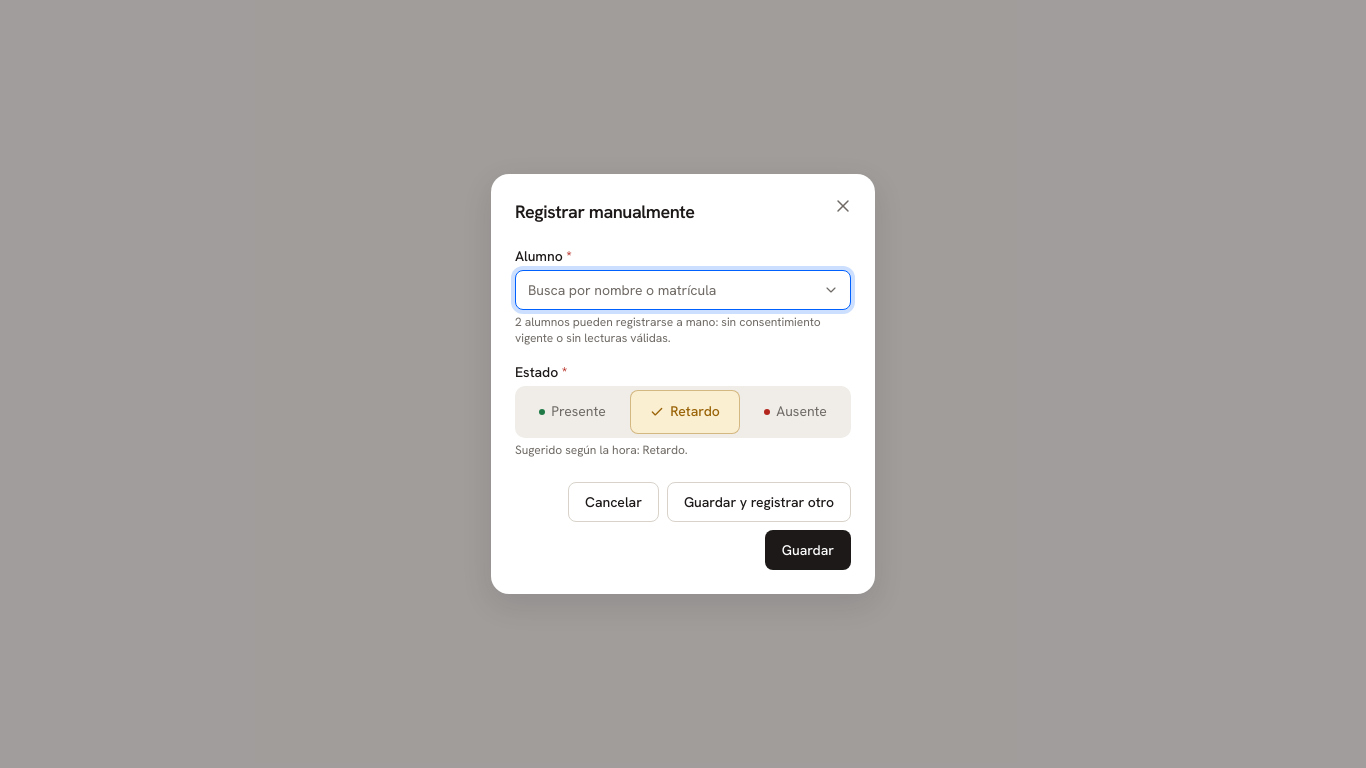
Test: RegistroManualDialog › «Guardar y registrar otro» deja el diálogo abierto, limpia la elección y no vuelve a ofrecer al registrado
The image size is (1366, 768).
Click the dropdown labelled "Alumno *".
click(683, 290)  # box [515,270,851,310]
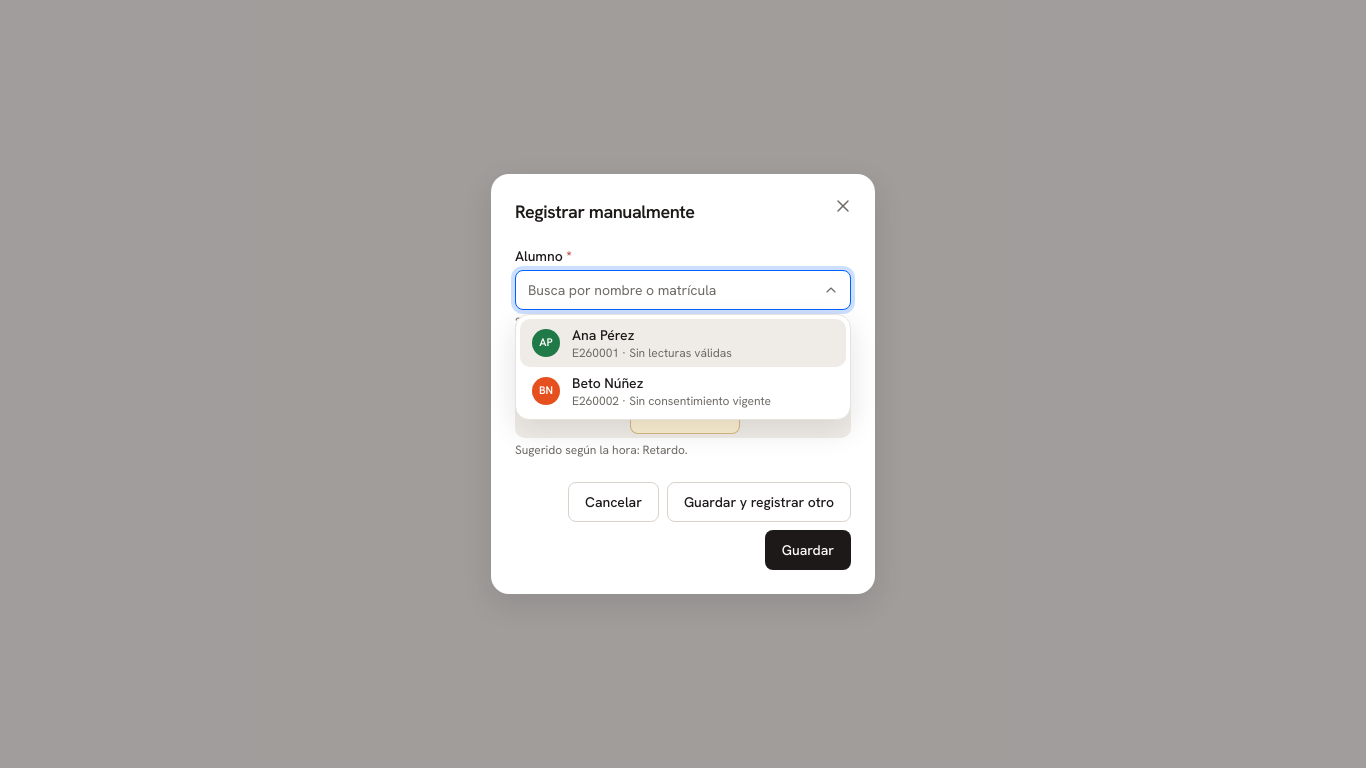
Click the option "AP Ana Pérez E260001 · Sin lecturas válidas".
click(683, 343)  # box [520,319,846,367]
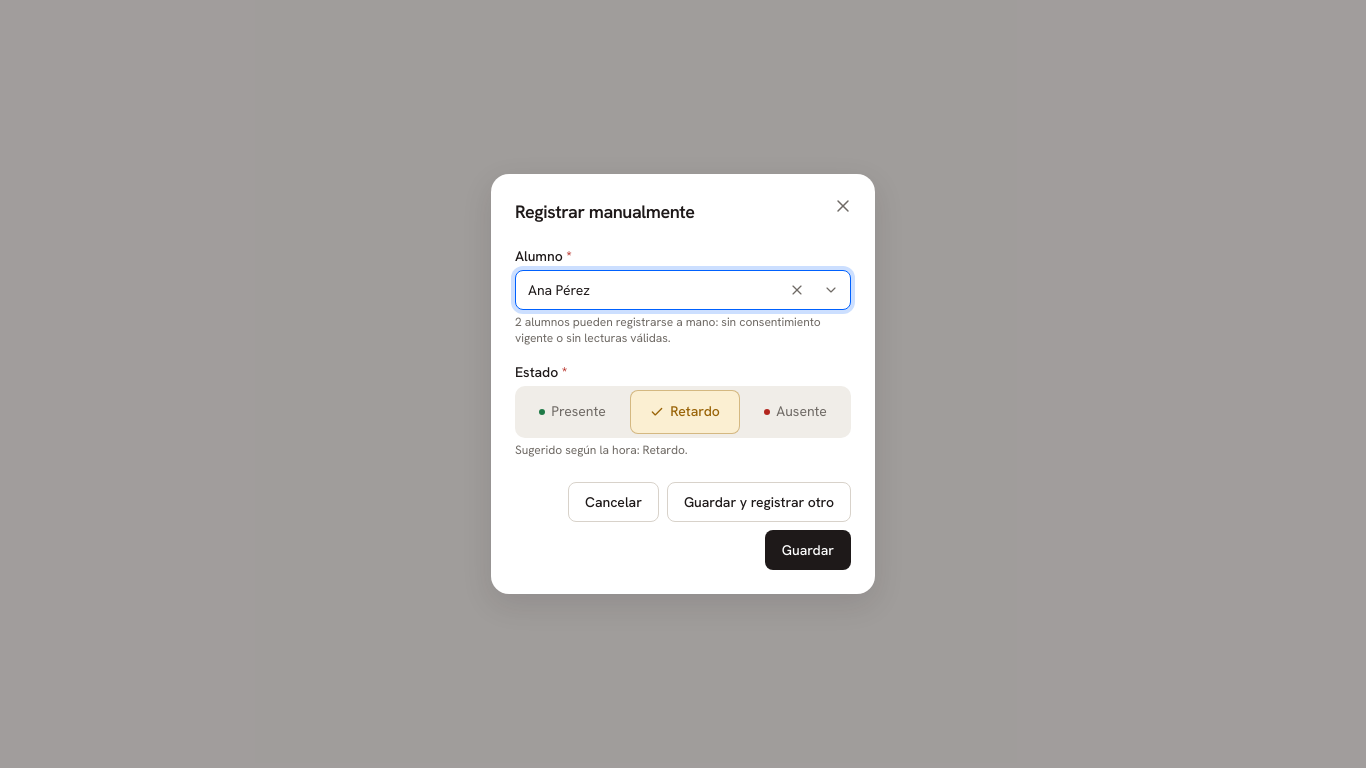
Click the radio button labelled "Presente".
click(572, 412)  # box [519,390,626,434]
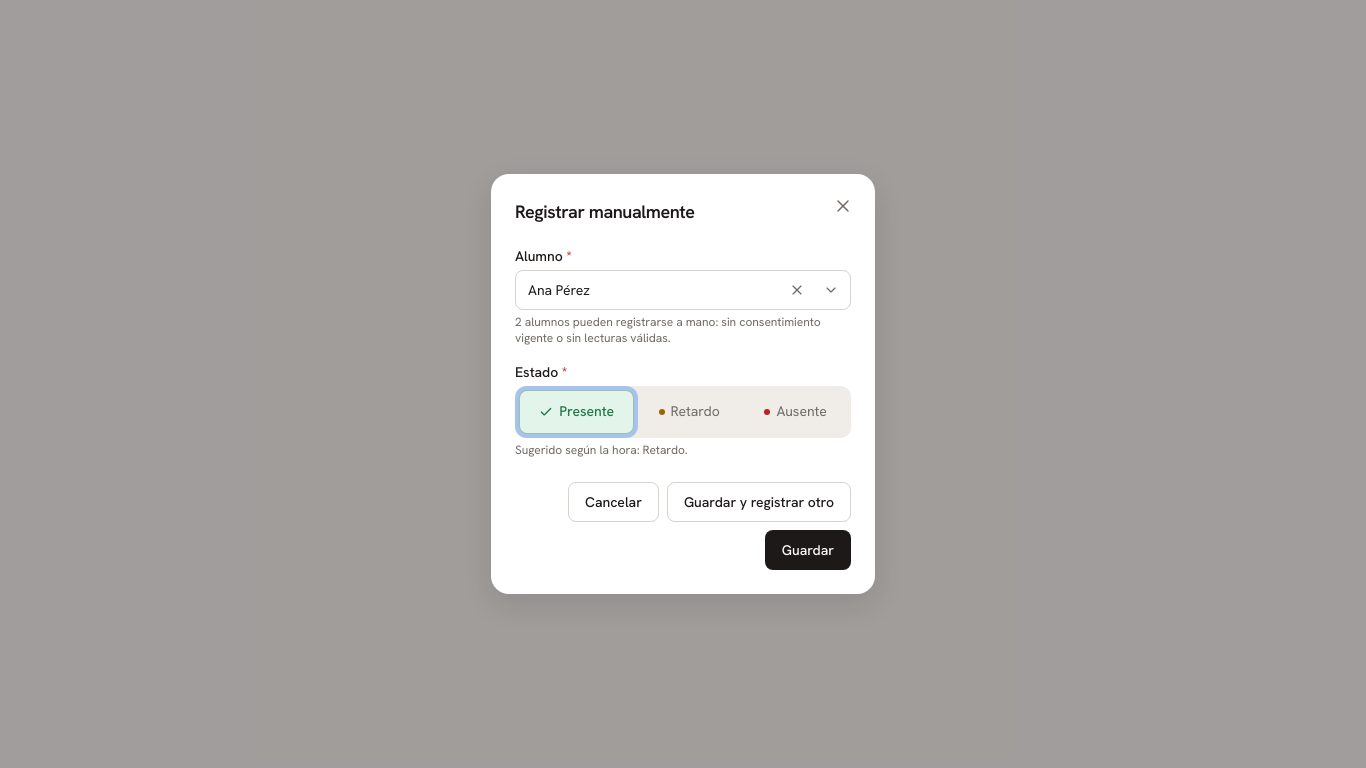
Click the button "Guardar y registrar otro".
click(759, 502)  # box [667,482,851,522]
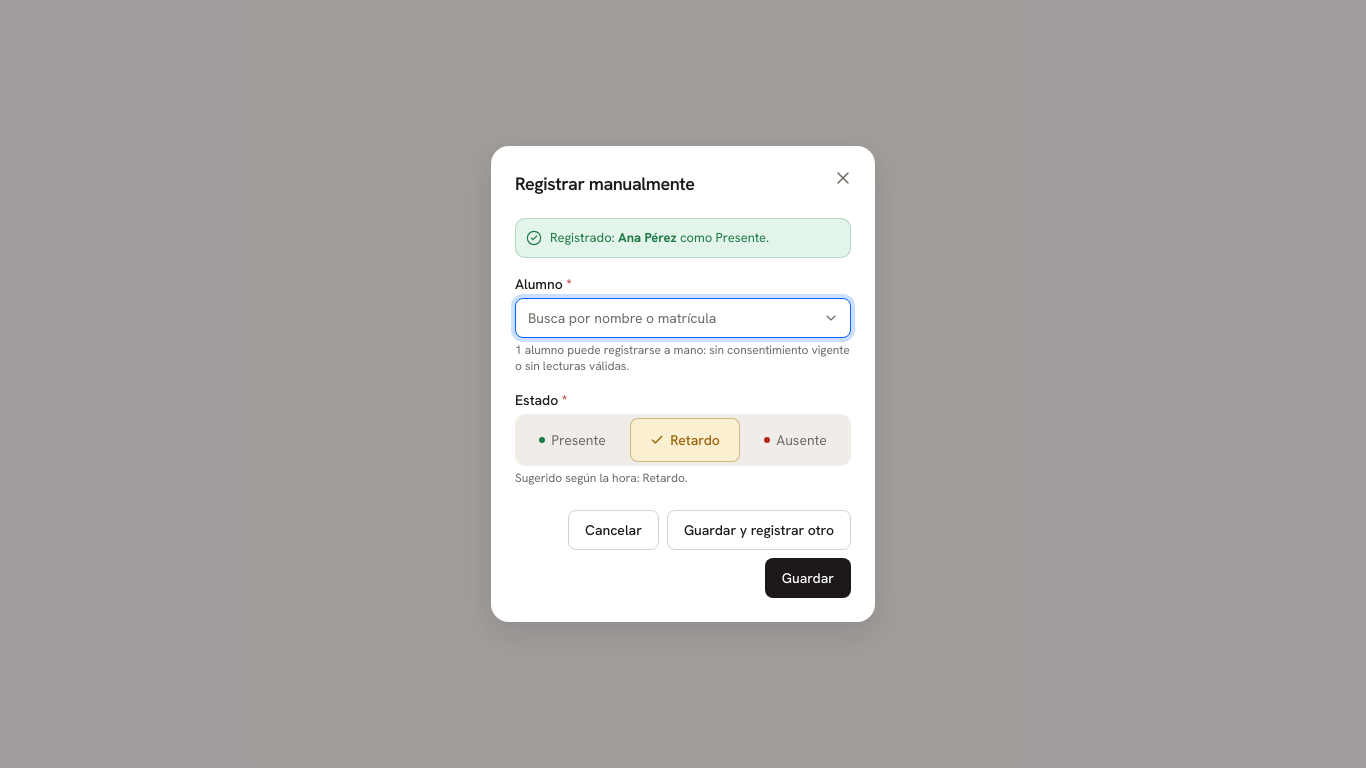
expect the text "Registrado: Ana Pérez como Presente." is shown: met, box [550,229,769,246]
expect the dropdown labelled "Alumno *" is empty: met
expect the radio button labelled "Retardo" is checked: met, box [630,418,740,462]
Click the dropdown labelled "Alumno *".
click(683, 318)  # box [515,298,851,338]
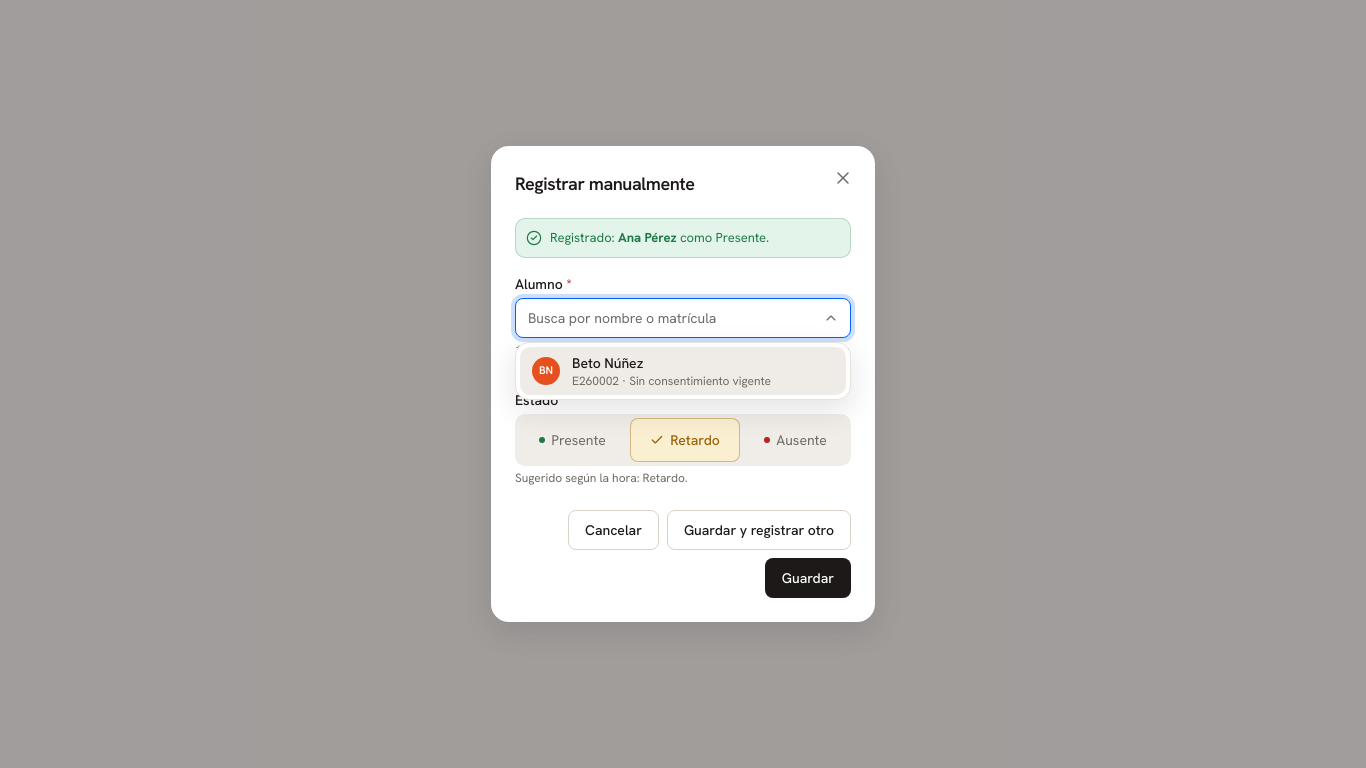
expect the number of options is 1: met, box [520,347,846,395]
expect the option shows "Beto Núñez": met, box [520,347,846,395]
